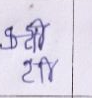i_matra: (33, 17, 46, 49)
